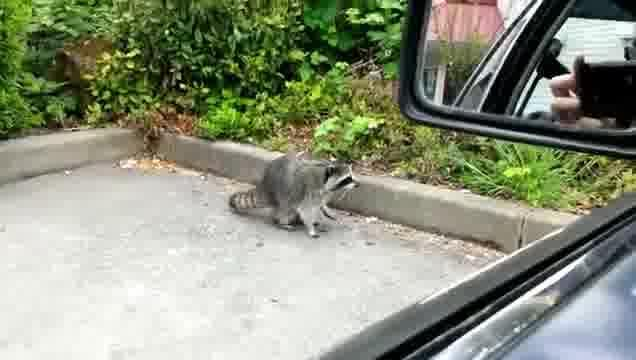raccoon: (226, 154, 362, 241)
